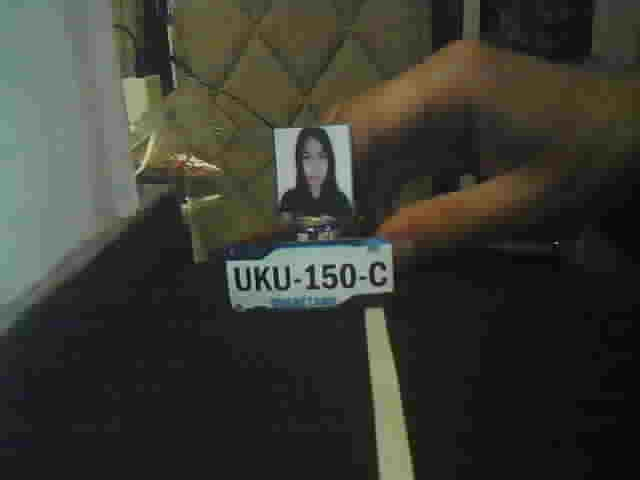PLACA: (221, 235, 397, 316)
ROSTRO: (280, 127, 352, 207)
